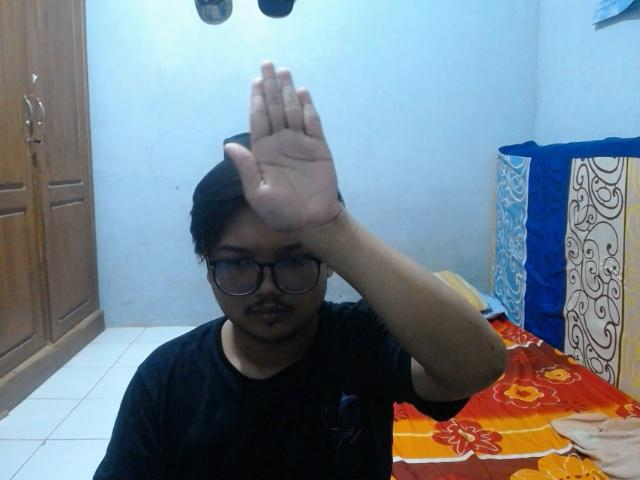Release: (220, 58, 344, 230)
